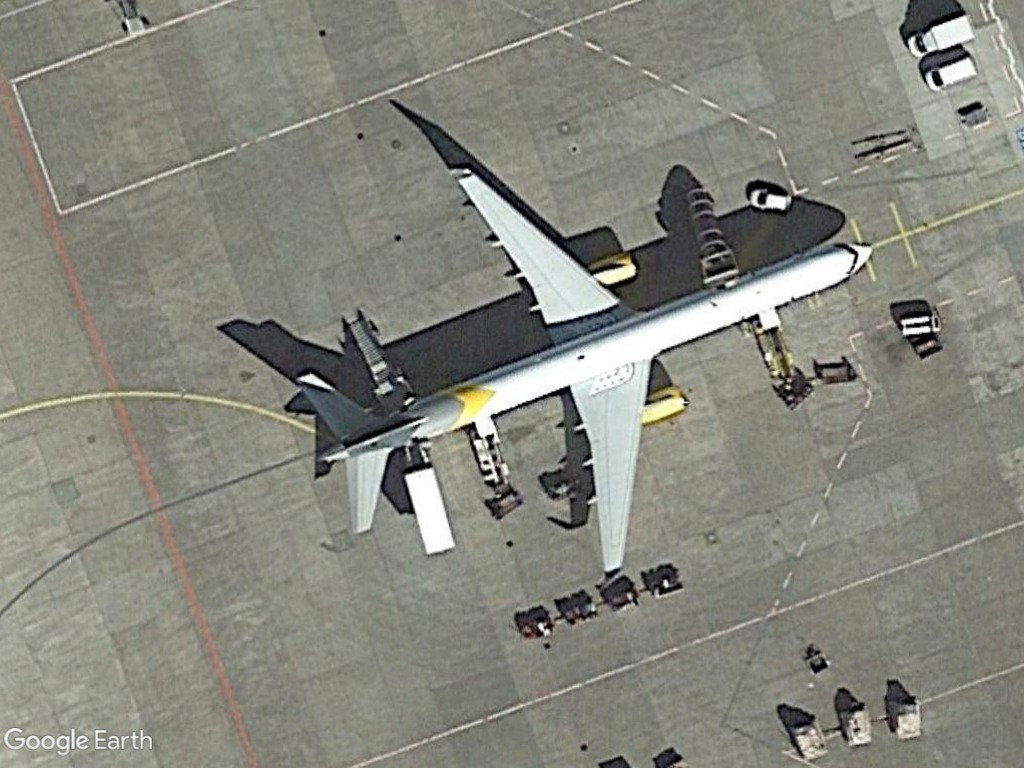airliner: (290, 158, 874, 575)
truck: (902, 10, 977, 60)
van: (917, 55, 983, 93)
